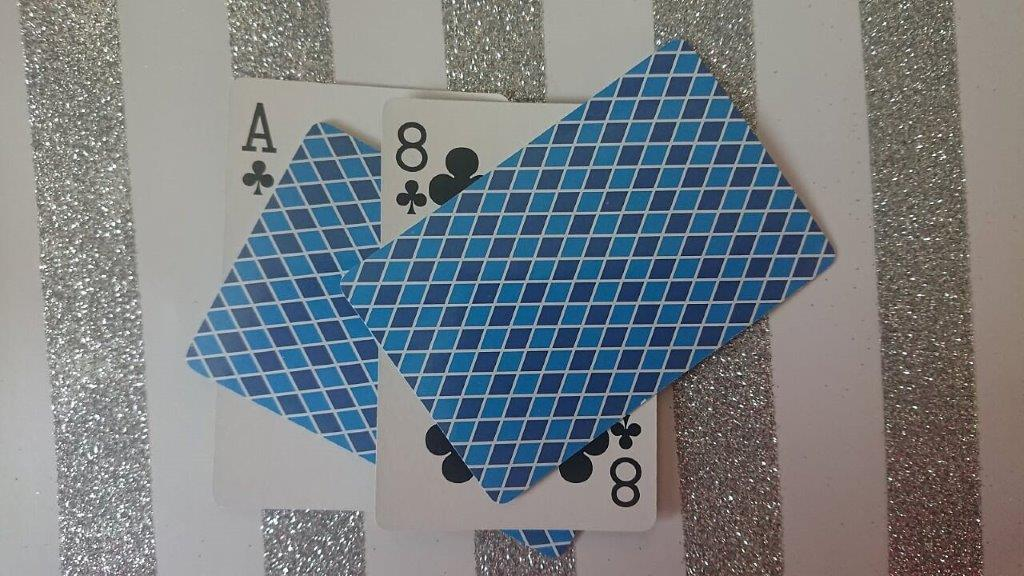8C: (387, 112, 444, 217)
AC: (236, 94, 282, 203)
